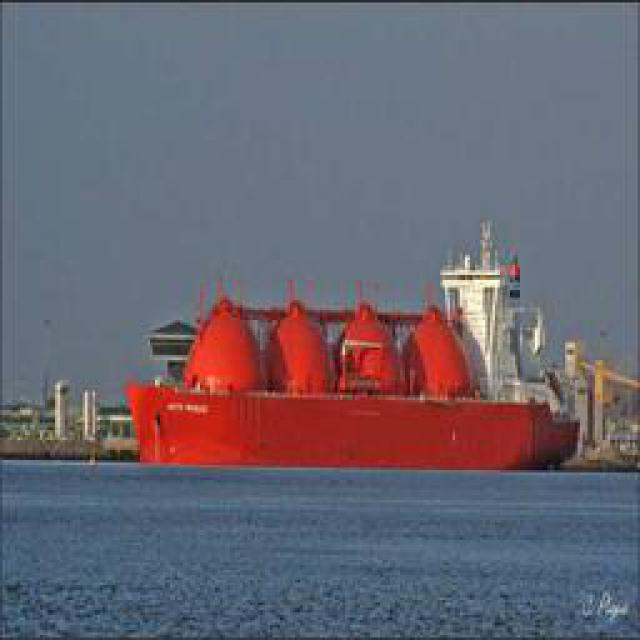Ship: (97, 232, 577, 476)
